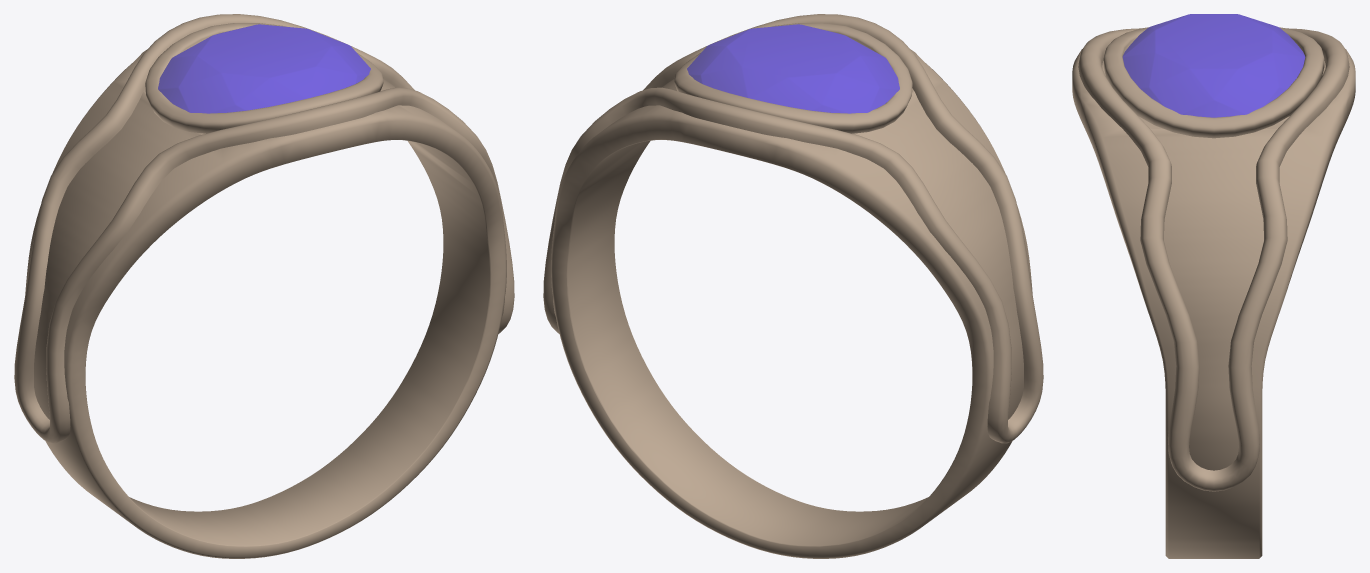
File: vilya._elronds_ring-optimo.glb
3 views of the same model, side by side, from view 1: azimuth 30°, elevation 25°; view 2: azimuth 150°, elevation 25°; view 3: azimuth 270°, elevation 25° (orthographic).
Parts seen in each view (by area): view 1: Plane_0, Gem_0; view 2: Plane_0, Gem_0; view 3: Plane_0, Gem_0.
Part boxes in pixels (x1,y1,x2,y2): Plane_0: [14, 14, 514, 558]; Gem_0: [158, 24, 370, 113]; Plane_0: [543, 14, 1043, 558]; Gem_0: [687, 24, 899, 113]; Plane_0: [1072, 27, 1355, 558]; Gem_0: [1122, 14, 1305, 117].
Bounding box in the file's own units: 0.3917 × 0.3926 × 0.2042.
